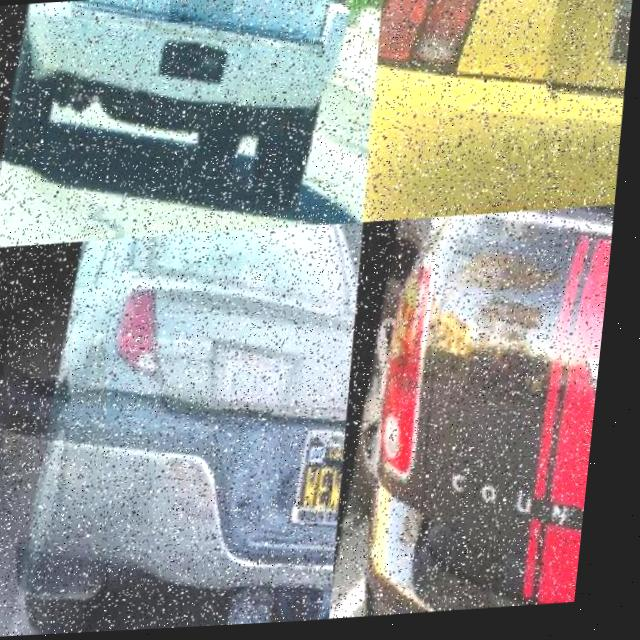LicensePlate: (284, 434, 356, 529), (168, 0, 234, 25)
